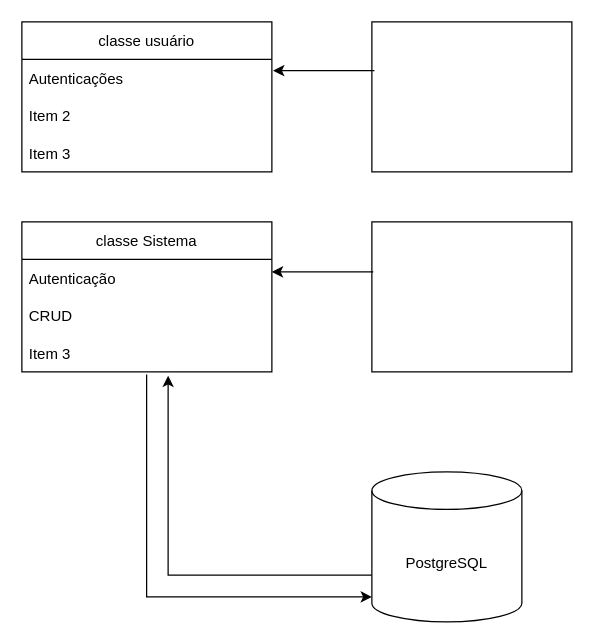
This 594x644 diagram has some shape labels left out. Here are the shapes that lost their labels. From the top down, the centre of each, then its label:
At pixel 471 96: "Parametros Nome Email Senha SuperUser".
At pixel 471 296: "Parametros Usuario Senha".
